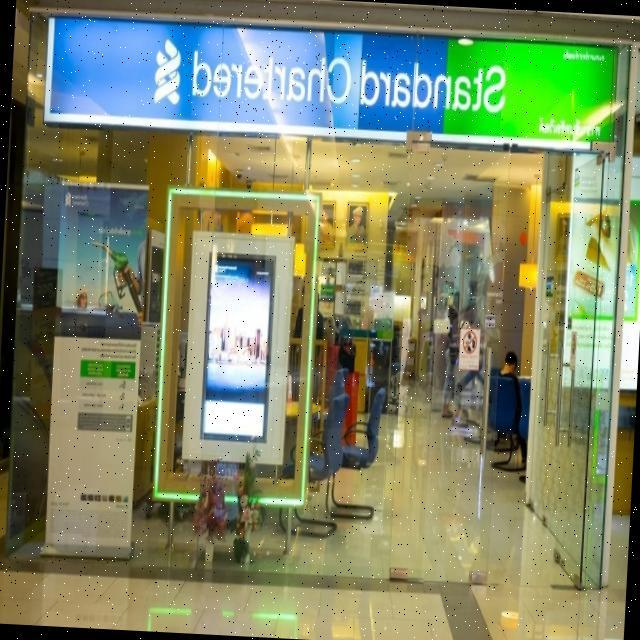Standard Chartered: (155, 37, 508, 125)
